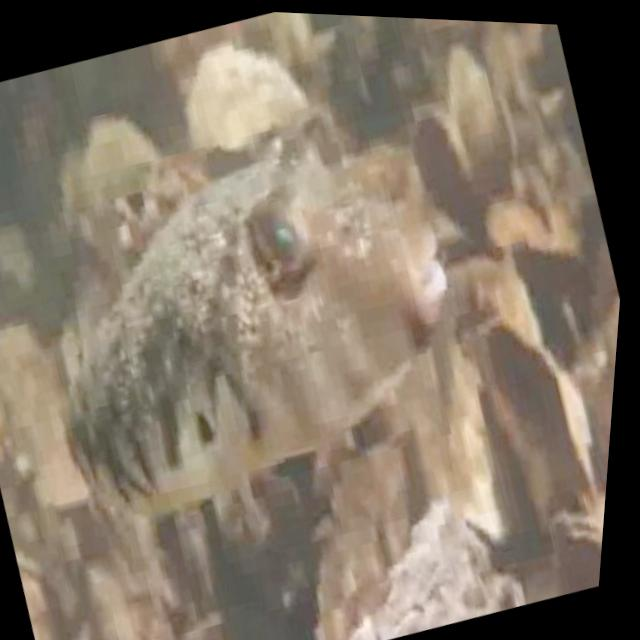Oyster-Closed: (449, 42, 512, 197)
Oyster-Indeterminate: (434, 254, 543, 494), (338, 495, 512, 640), (0, 323, 90, 509), (186, 42, 304, 172), (89, 115, 162, 218), (14, 533, 79, 640), (188, 590, 299, 640), (552, 501, 605, 595), (0, 342, 33, 466), (154, 141, 218, 199), (61, 149, 94, 238)
Oyster-Open: (118, 187, 160, 239)
